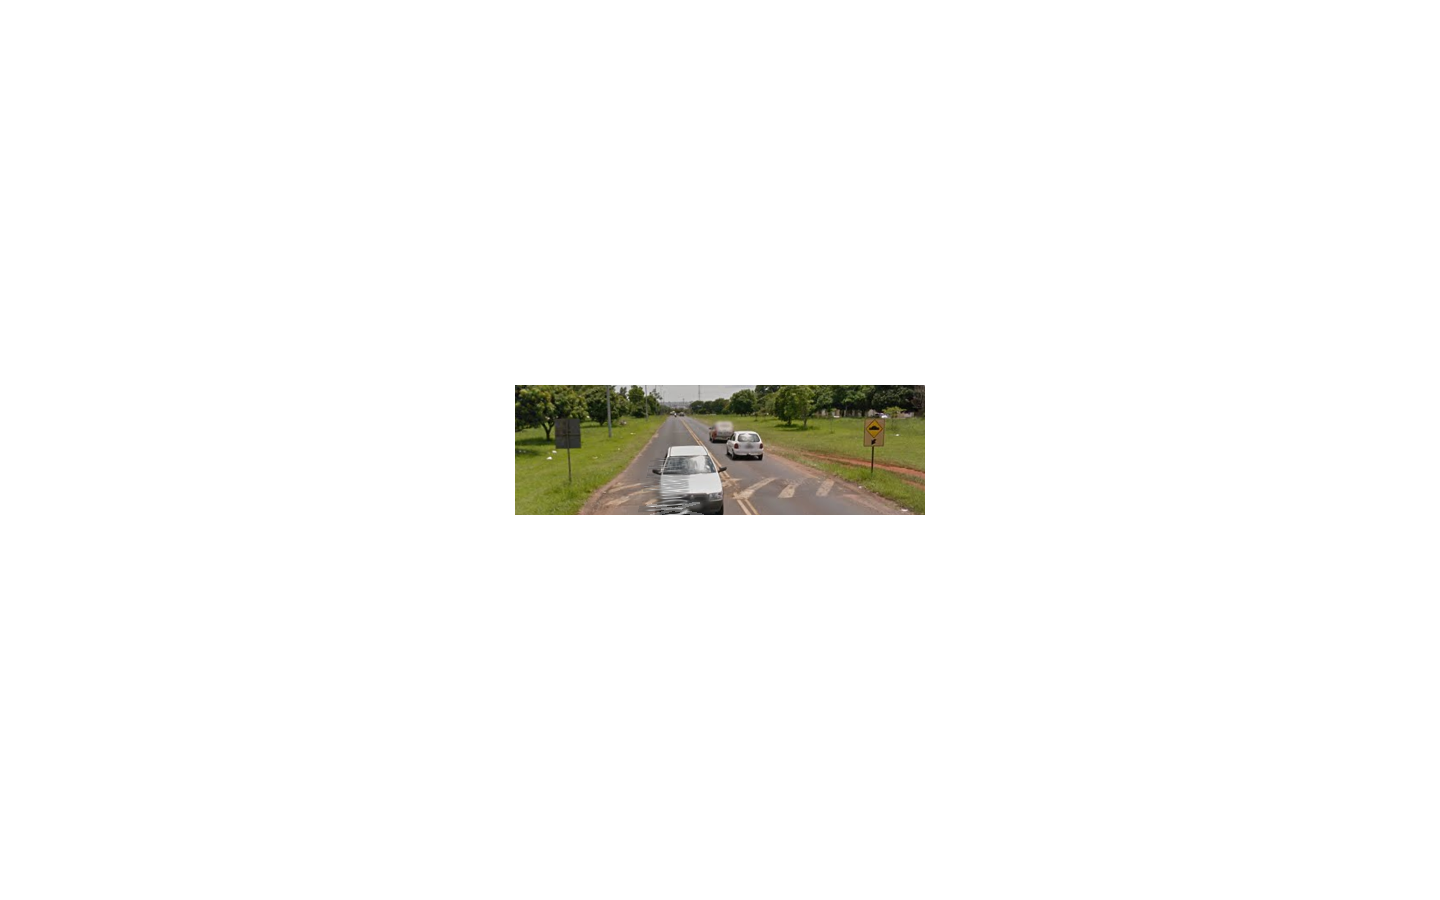lomb: (863, 418, 884, 446)
